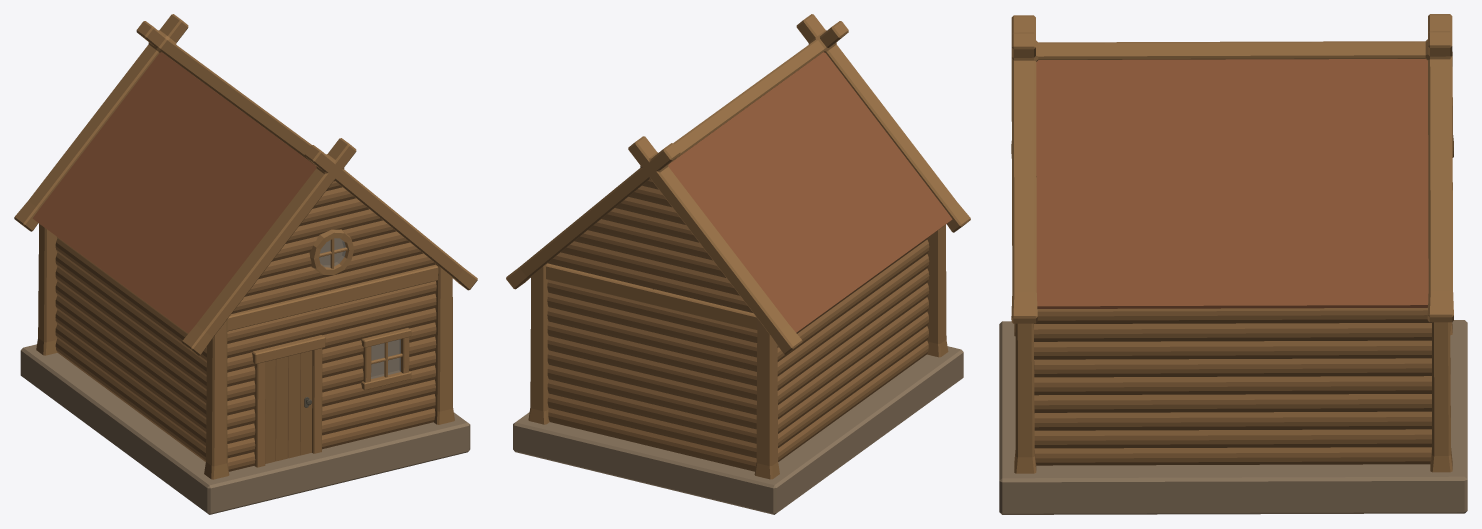
Rendered from house and door.fbx.
3 views of the same model, side by side, from view 1: azimuth 30°, elevation 25°; view 2: azimuth 150°, elevation 25°; view 3: azimuth 270°, elevation 25° (orthographic). The views are drawn at different scales.
Parts seen in each view (by area): view 1: House, door, glass 1; view 2: House; view 3: House.
Boxes of the visible parts, x1,y1,x2,y2 form: House: (14,14,477,514); door: (265,350,312,463); glass 1: (371,339,400,378); House: (506,14,970,514); House: (999,14,1467,514).
Size of the model in its own units: 559 by 623 by 639.
